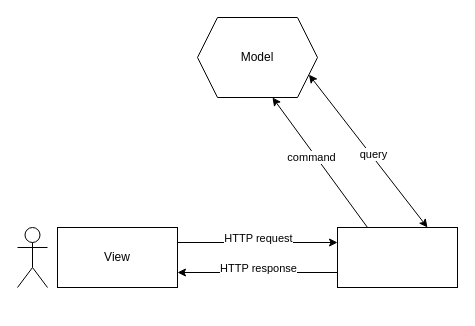
Some shapes in this 475 by 326 pixel diagram are drawn without their labels. The centre of each missing label's shape, as x and y in pixels:
"client" goes at (32,257).
"Controller" goes at (397,257).
